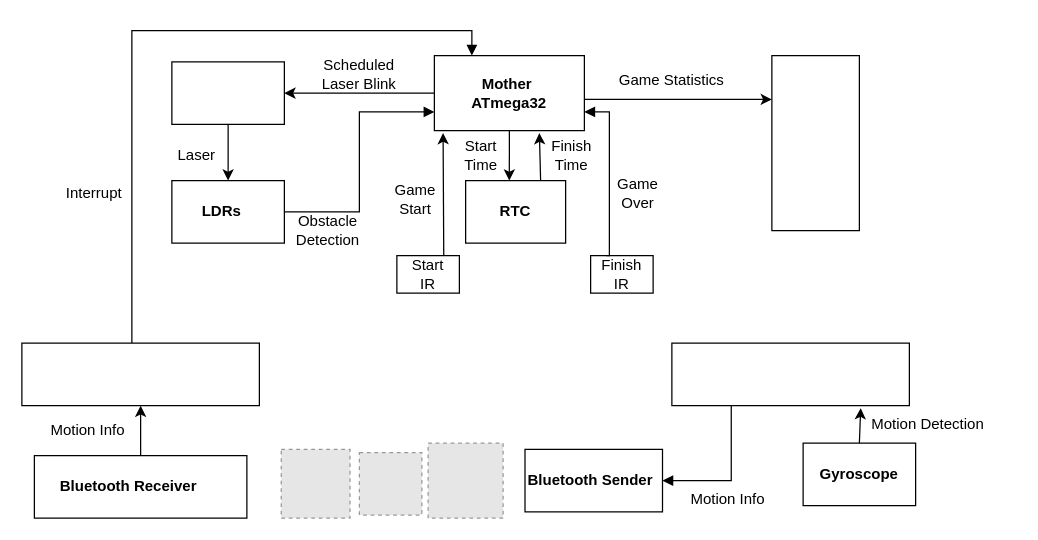
Some shapes in this 1038 by 540 pixel diagram are drawn without their labels. Grey dashed boxes stand in for pictures. Here are the shapes that lost their labels. From the top down, the centre of each, then its label:
At (x=227, y=92): "Laser Beams".
At (x=815, y=142): "16x2 LCD".
At (x=140, y=374): "Receiver ATmega32".
At (x=790, y=374): "Player ATmega32".
